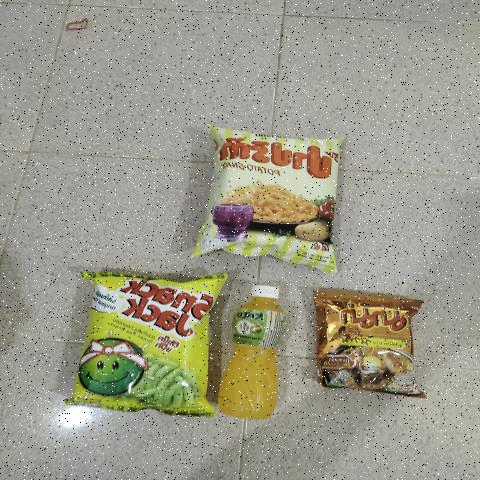mama: (316, 303, 406, 381)
paprika: (233, 136, 325, 254)
snack_jack: (99, 282, 198, 406)
